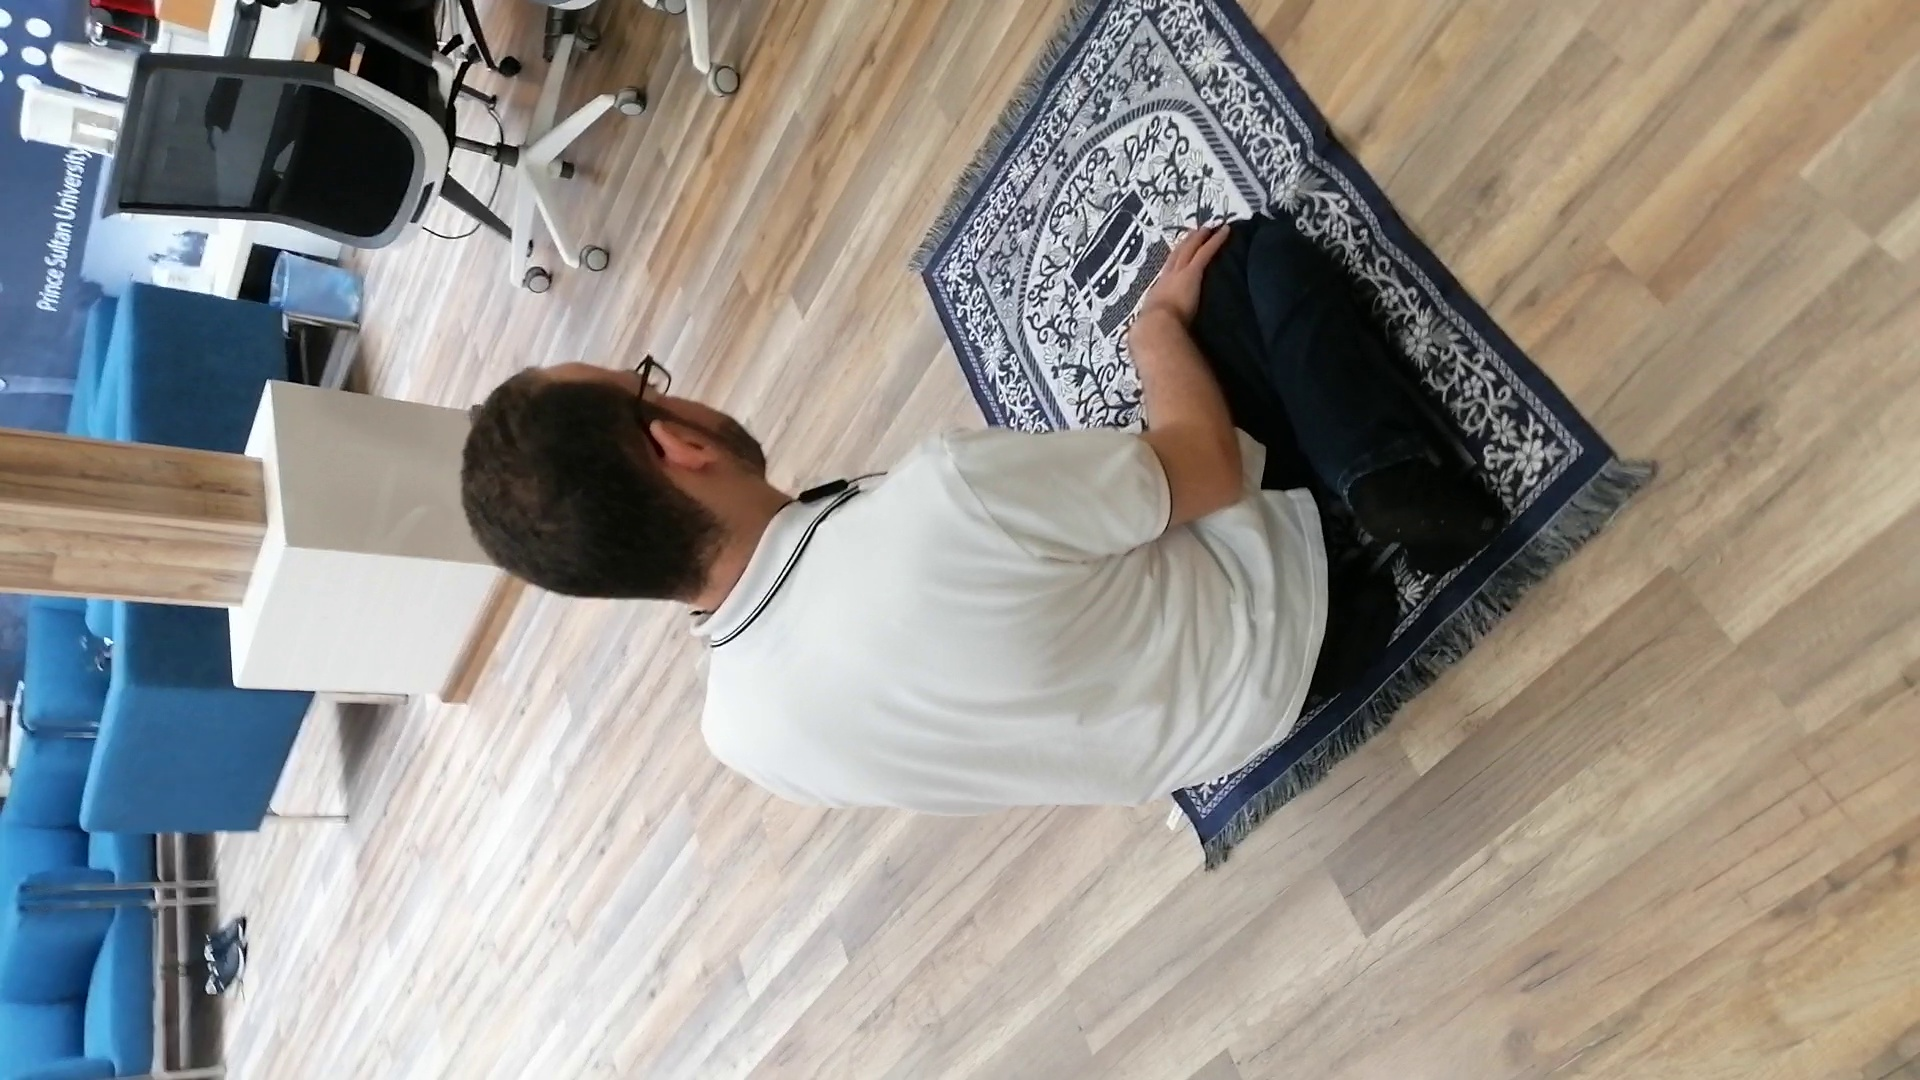sitting: (443, 203, 1509, 827)
